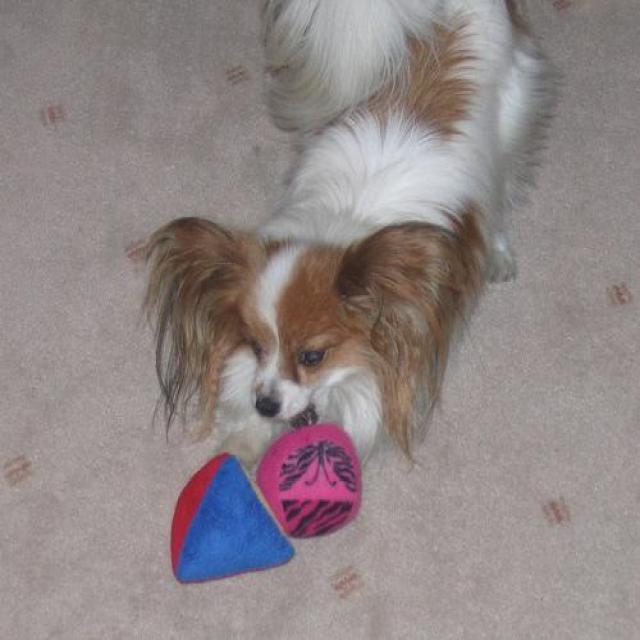papillon: (156, 3, 542, 468)
